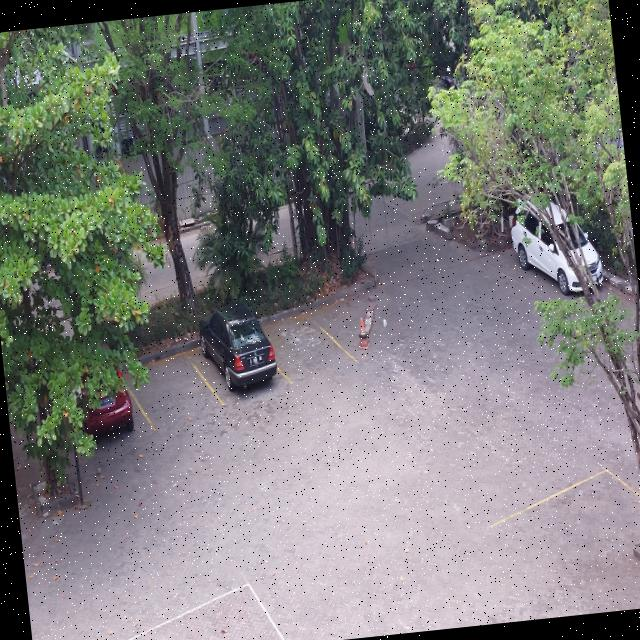empty: (492, 470, 640, 604), (120, 348, 221, 429), (259, 307, 357, 381)
occupied: (182, 295, 292, 405)
